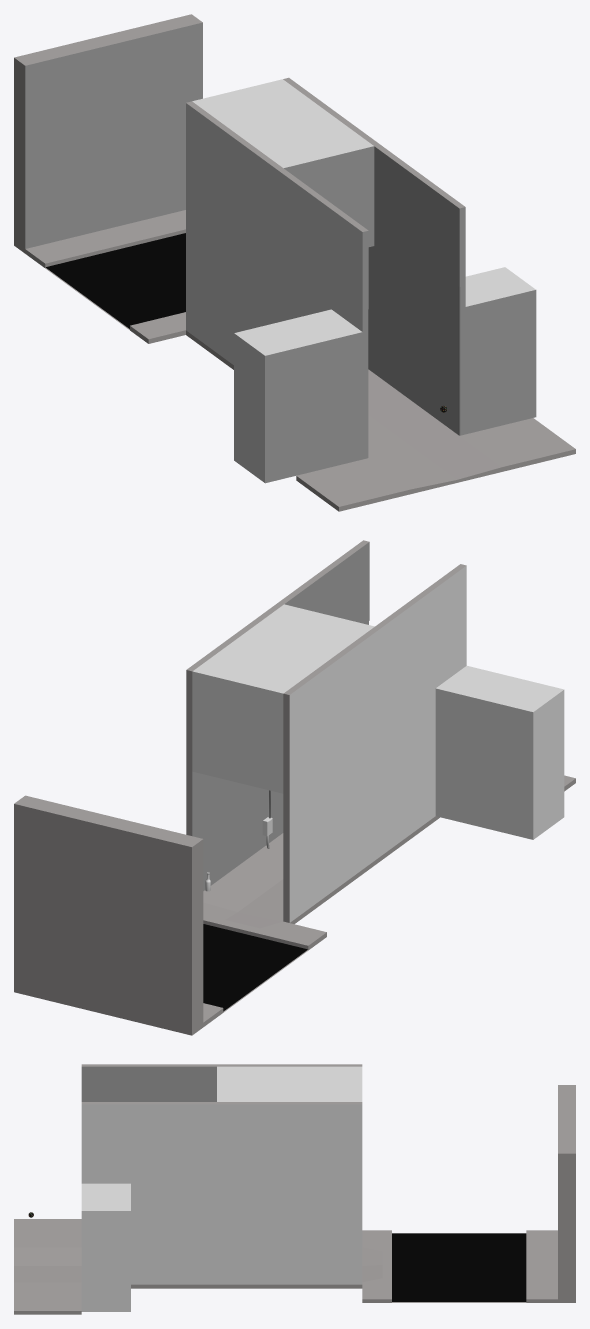
File: 3D Ball Animation.fbx
The picture shows the model from 3 angles, top to bottom: view 1: azimuth 30°, elevation 25°; view 2: azimuth 150°, elevation 25°; view 3: azimuth 270°, elevation 25°; orthographic projection. The views are drawn at different scales.
Visible parts, largest first — view 1: Alley Itself; view 2: Alley Itself; view 3: Alley Itself.
Boxes of the visible parts, <box> form: Alley Itself: <box>14,14,575,511</box>; Alley Itself: <box>14,540,575,1035</box>; Alley Itself: <box>14,1064,575,1314</box>.
Bounding box in the file's own units: 1901 × 1556 × 4300.
